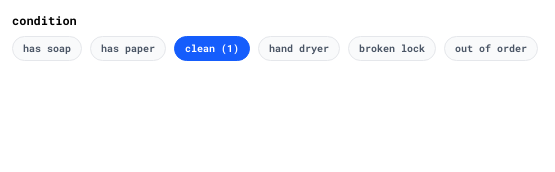
ConditionTags › removes vote optimistically on second click
Click the button "clean (1)". click: (212, 48)
box: top-left (174, 36), bottom-right (250, 61)
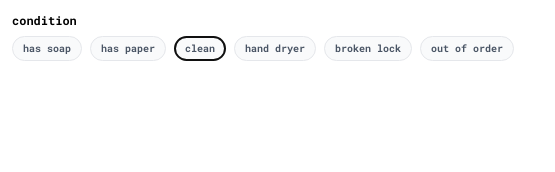
Expected: the button "clean" is shown, top-left (174, 36), bottom-right (226, 61)
Now the button "clean (1)" is gone
